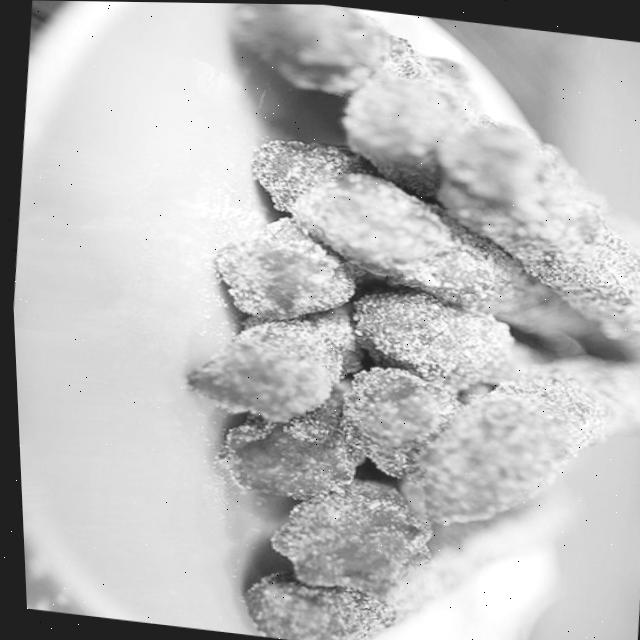炸货点心: (136, 2, 640, 640)
